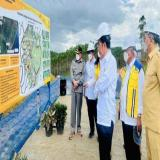Helmet: (94, 22, 112, 42), (142, 18, 160, 38), (123, 36, 138, 50), (87, 41, 95, 53)
Vest: (120, 59, 144, 120)
